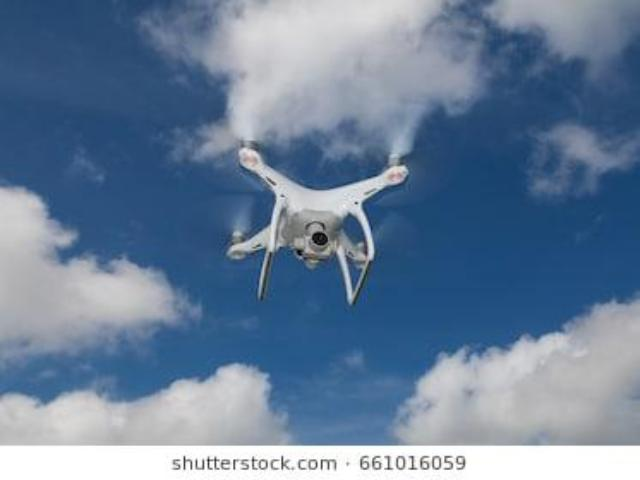drone: (195, 132, 427, 304)
